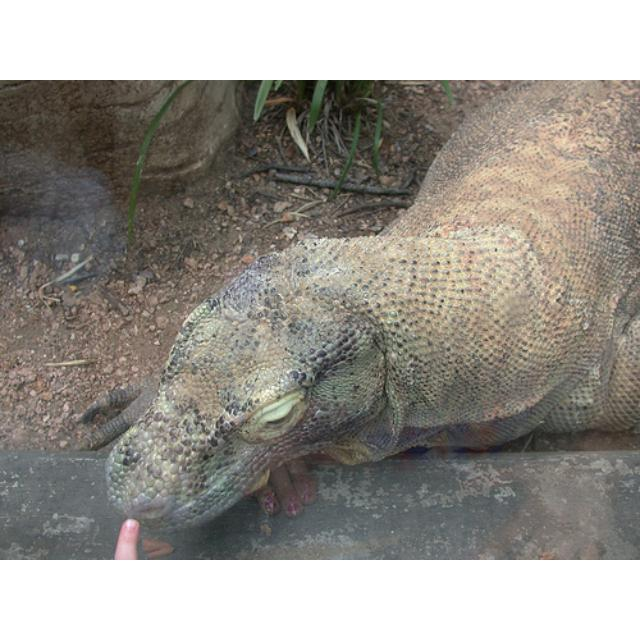KomodoDragon: (105, 85, 637, 517)
